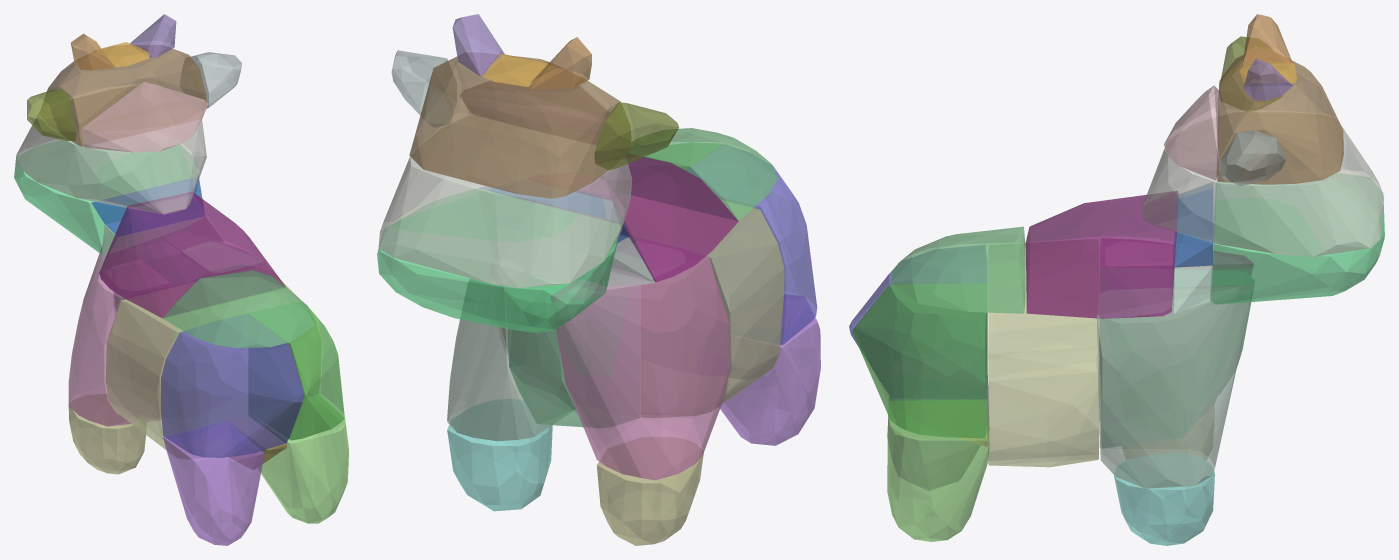
The model's file is cow_convex.dae.
3 views of the same model, side by side, from view 1: azimuth 30°, elevation 25°; view 2: azimuth 150°, elevation 25°; view 3: azimuth 270°, elevation 25° (orthographic). The views are drawn at different scales.
Parts seen in each view (by area): view 1: Shape_IndexedFaceSet_002, Shape_IndexedFaceSet_013, Shape_IndexedFaceSet_009, Shape_IndexedFaceSet, Shape_IndexedFaceSet_021, Shape_IndexedFaceSet_007, Shape_IndexedFaceSet_001, Shape_IndexedFaceSet_015, Shape_IndexedFaceSet_022, Shape_IndexedFaceSet_003, Shape_IndexedFaceSet_014, Shape_IndexedFaceSet_004 (+10 smaller); view 2: Shape_IndexedFaceSet_007, Shape_IndexedFaceSet, Shape_IndexedFaceSet_002, Shape_IndexedFaceSet_021, Shape_IndexedFaceSet_001, Shape_IndexedFaceSet_013, Shape_IndexedFaceSet_017, Shape_IndexedFaceSet_008, Shape_IndexedFaceSet_009, Shape_IndexedFaceSet_022, Shape_IndexedFaceSet_003, Shape_IndexedFaceSet_016 (+10 smaller); view 3: Shape_IndexedFaceSet_017, Shape_IndexedFaceSet, Shape_IndexedFaceSet_002, Shape_IndexedFaceSet_001, Shape_IndexedFaceSet_015, Shape_IndexedFaceSet_009, Shape_IndexedFaceSet_008, Shape_IndexedFaceSet_013, Shape_IndexedFaceSet_021, Shape_IndexedFaceSet_014, Shape_IndexedFaceSet_003, Shape_IndexedFaceSet_016 (+11 smaller).
Part boxes in pixels (<box>): Shape_IndexedFaceSet_002: <box>105,265,320,459</box>; Shape_IndexedFaceSet_013: <box>161,314,304,457</box>; Shape_IndexedFaceSet_009: <box>99,192,285,318</box>; Shape_IndexedFaceSet: <box>15,86,206,214</box>; Shape_IndexedFaceSet_021: <box>40,45,206,146</box>; Shape_IndexedFaceSet_007: <box>68,248,171,426</box>; Shape_IndexedFaceSet_001: <box>14,141,197,253</box>; Shape_IndexedFaceSet_015: <box>249,302,344,440</box>; Shape_IndexedFaceSet_022: <box>163,421,264,545</box>; Shape_IndexedFaceSet_003: <box>162,270,314,347</box>; Shape_IndexedFaceSet_014: <box>248,395,348,523</box>; Shape_IndexedFaceSet_004: <box>82,82,208,152</box>; Shape_IndexedFaceSet_007: <box>551,239,729,480</box>; Shape_IndexedFaceSet: <box>378,115,632,288</box>; Shape_IndexedFaceSet_002: <box>502,196,784,417</box>; Shape_IndexedFaceSet_021: <box>409,53,630,198</box>; Shape_IndexedFaceSet_001: <box>377,188,620,332</box>; Shape_IndexedFaceSet_013: <box>686,145,817,344</box>; Shape_IndexedFaceSet_017: <box>447,279,574,441</box>; Shape_IndexedFaceSet_008: <box>507,236,639,427</box>; Shape_IndexedFaceSet_009: <box>575,154,738,282</box>; Shape_IndexedFaceSet_022: <box>719,295,820,445</box>; Shape_IndexedFaceSet_003: <box>629,128,777,220</box>; Shape_IndexedFaceSet_016: <box>447,399,552,511</box>; Shape_IndexedFaceSet_017: <box>1096,284,1252,488</box>; Shape_IndexedFaceSet: <box>1142,113,1384,256</box>; Shape_IndexedFaceSet_002: <box>988,239,1099,467</box>; Shape_IndexedFaceSet_001: <box>1210,173,1384,304</box>; Shape_IndexedFaceSet_015: <box>852,283,987,438</box>; Shape_IndexedFaceSet_009: <box>1025,191,1178,318</box>; Shape_IndexedFaceSet_008: <box>1100,268,1254,447</box>; Shape_IndexedFaceSet_013: <box>849,245,986,400</box>; Shape_IndexedFaceSet_021: <box>1217,50,1343,184</box>; Shape_IndexedFaceSet_014: <box>887,400,989,541</box>; Shape_IndexedFaceSet_003: <box>891,226,1025,313</box>; Shape_IndexedFaceSet_016: <box>1114,454,1214,545</box>.
Bounding box in the file's own units: 0.8059 × 1.48 × 1.45.
